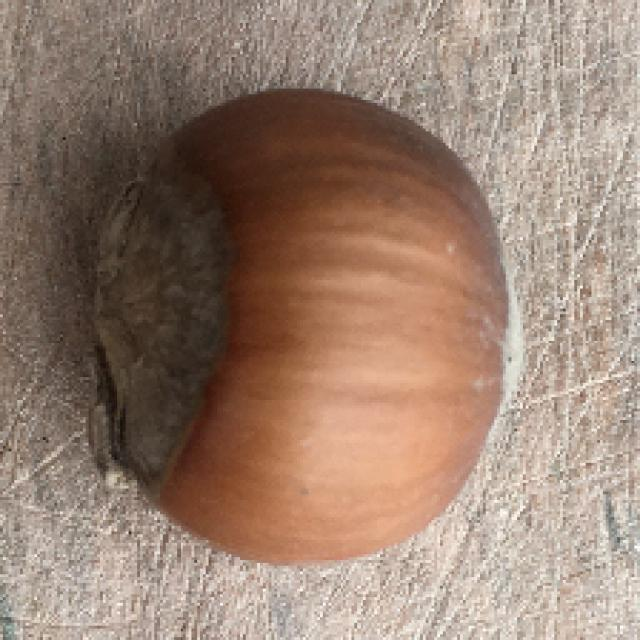damagedHazelnut: (90, 82, 526, 573)
